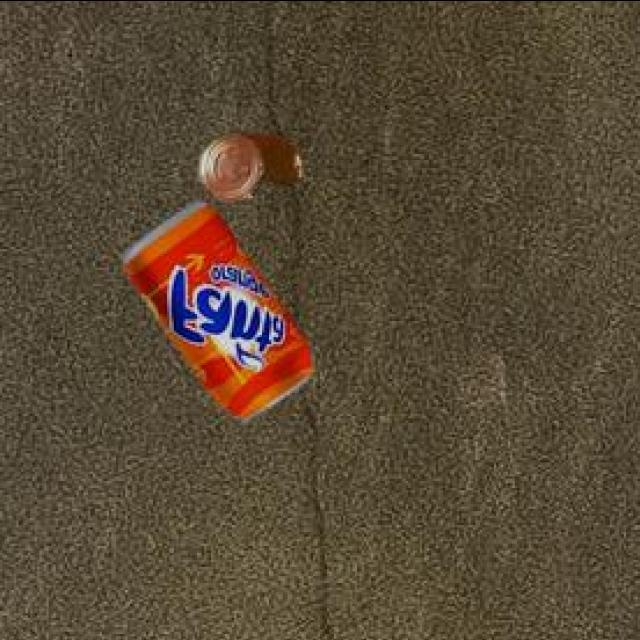logam: (126, 203, 317, 423), (203, 136, 307, 203)
